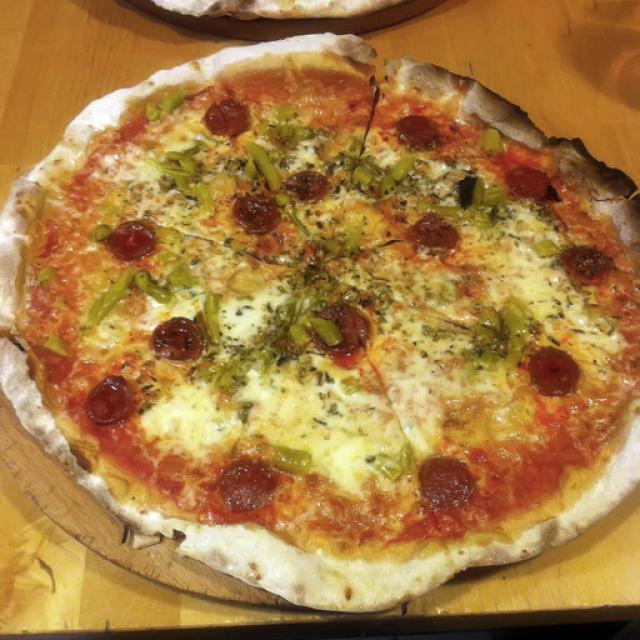Pepperoni: (313, 297, 374, 360), (222, 455, 280, 511), (504, 162, 562, 208), (226, 190, 280, 238), (76, 378, 132, 424), (150, 316, 206, 360), (561, 247, 618, 289), (279, 163, 336, 204), (419, 463, 469, 504), (396, 110, 442, 152), (205, 96, 245, 135), (538, 351, 575, 393), (110, 220, 152, 256), (414, 212, 458, 246)
Pizza: (0, 35, 640, 611)
